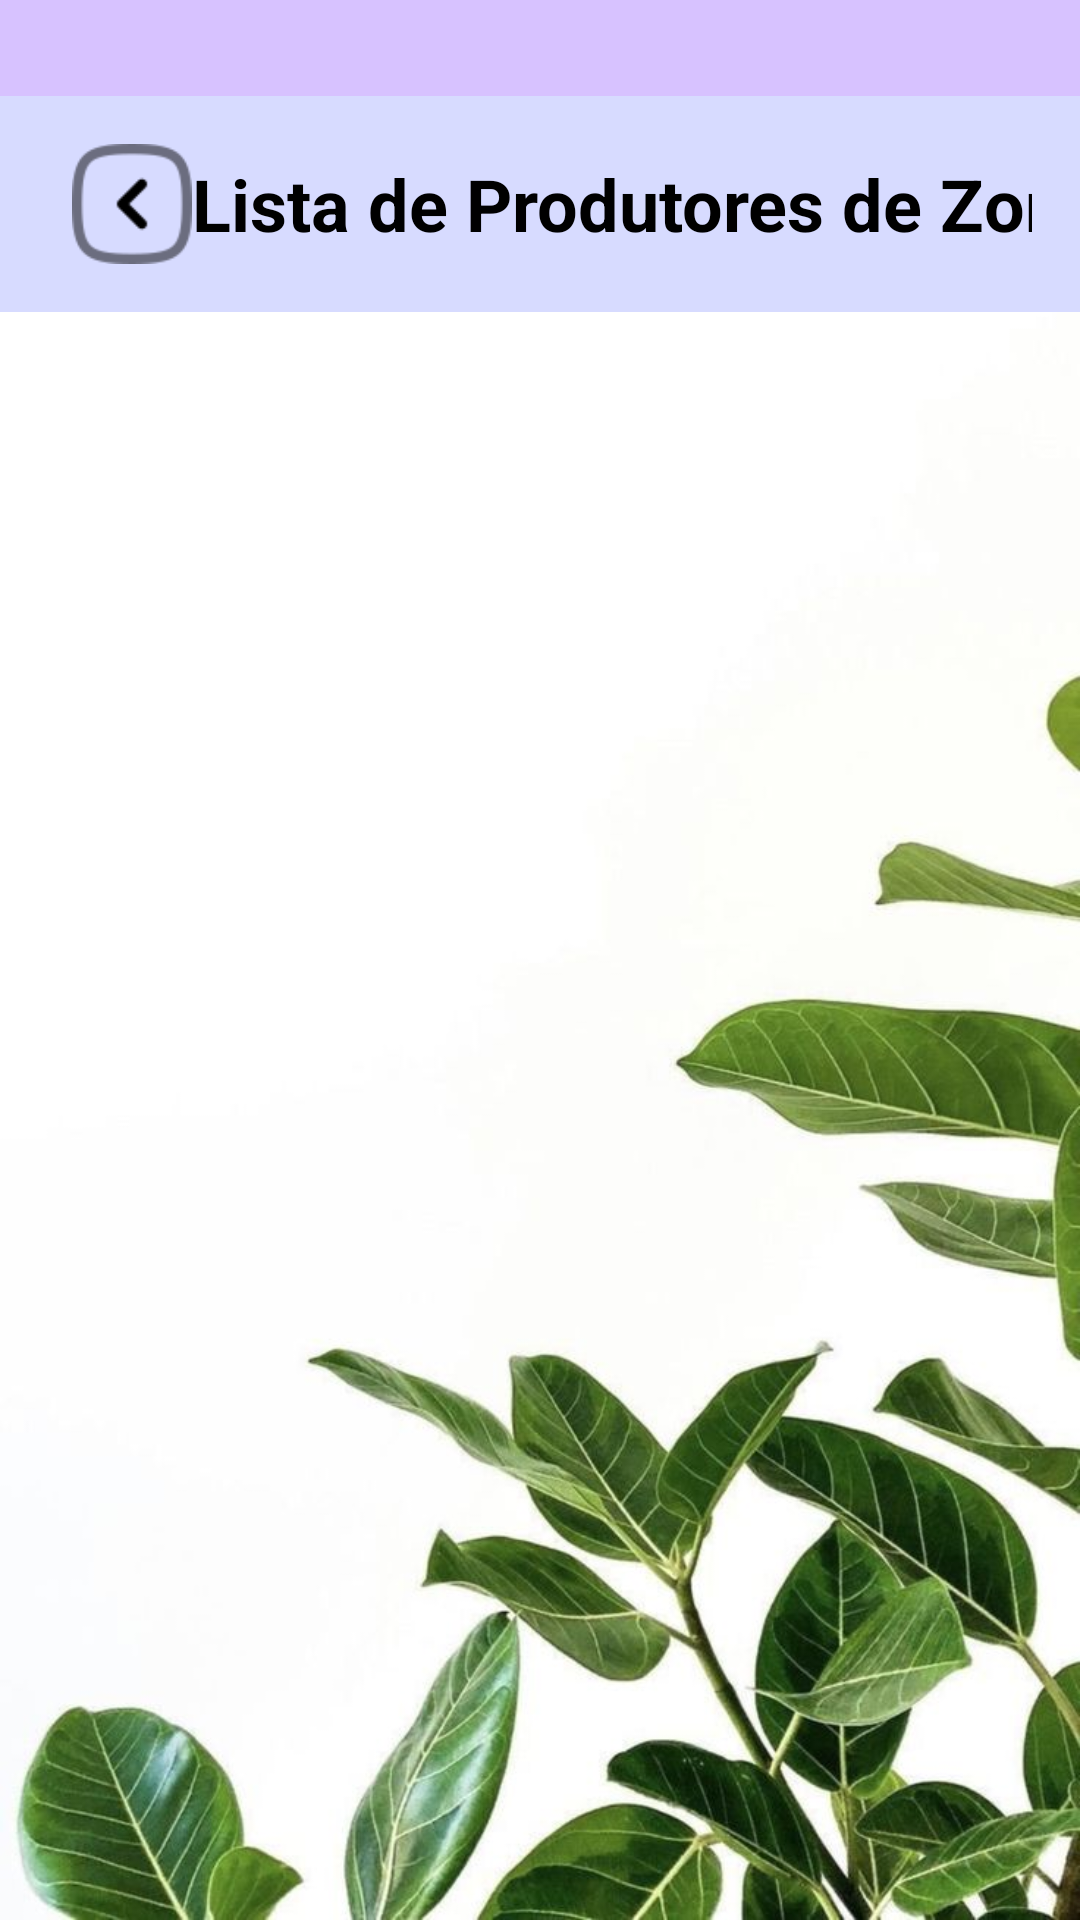

Icon bounding boxes for this 1080px x 1920px phone screenshot, format bbox(x1, y1, x2, y2):
flecha regresar: bbox(72, 144, 192, 264)
